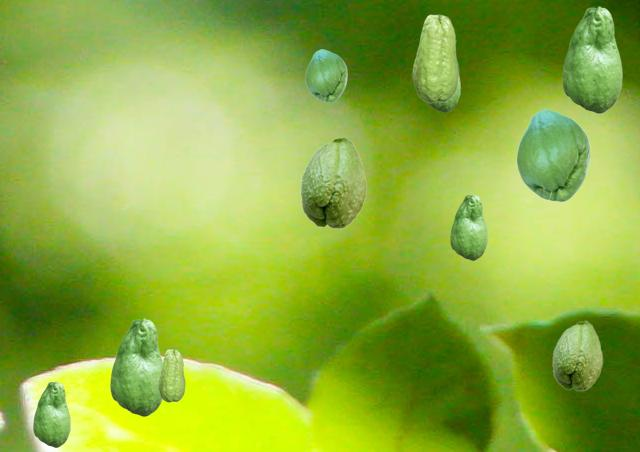sayote: (516, 109, 589, 201), (562, 6, 621, 112), (300, 136, 366, 228), (110, 318, 162, 415), (412, 14, 458, 102), (552, 320, 602, 390), (450, 194, 486, 259), (33, 381, 69, 446), (305, 49, 346, 101), (158, 349, 184, 401), (426, 73, 459, 111)
